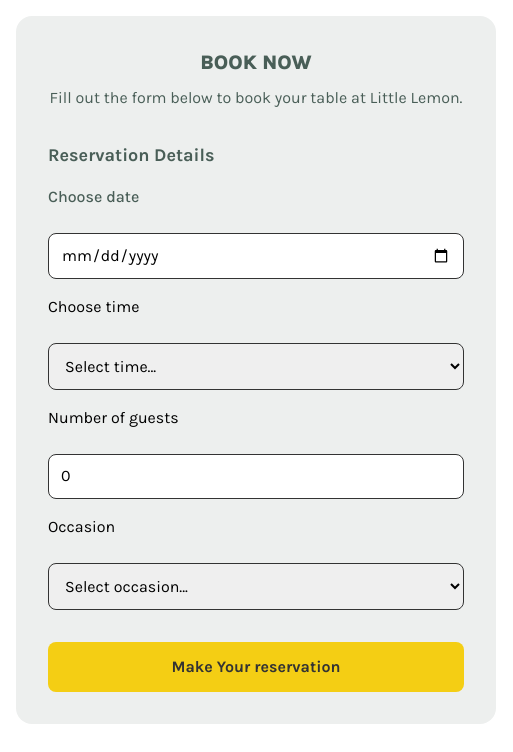
BookingForm › error message should show when guess input is above 10
Replace the text in the number field labelled "Number of guests" with "11" at (256, 477), box [48,454,464,499]
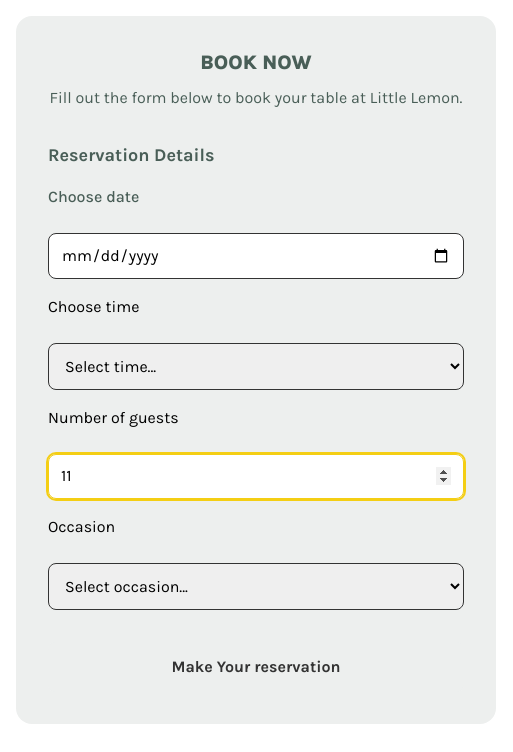
Press Tab
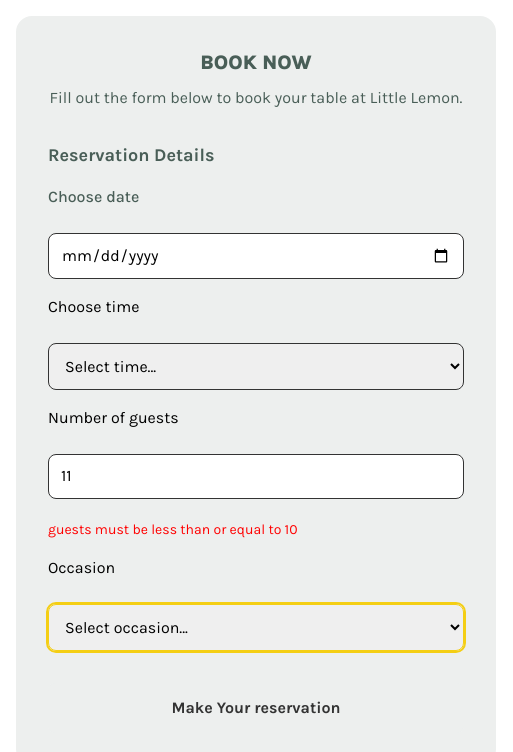
Expected: the text "guests must be less than or equal to 10" is shown, [48,521,298,538]
